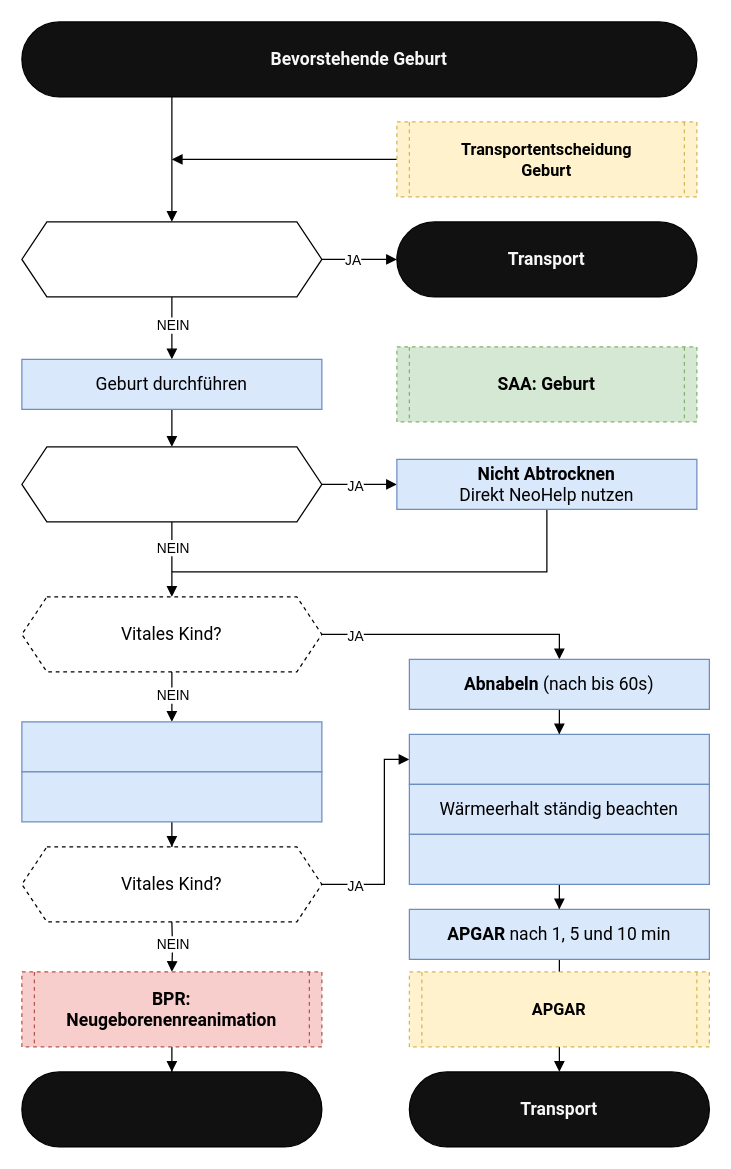
The diagram is 731 pixels wide and 1169 high, and some of its shapes have lost their labels. Each missing label, with the centre of its shape:
"Engmaschig überwachen" belongs at point (558, 858).
"Frühgeborenes (< 37 SSW)?" belongs at point (171, 484).
"Neugeborenenreanimation" belongs at point (171, 1109).
"Neugeborenes zur Mutter geben" belongs at point (558, 758).
"sofort Abnabeln" belongs at point (171, 796).
"taktile Stimulation" belongs at point (171, 746).
"Transport in Klinik möglich?" belongs at point (171, 259).
